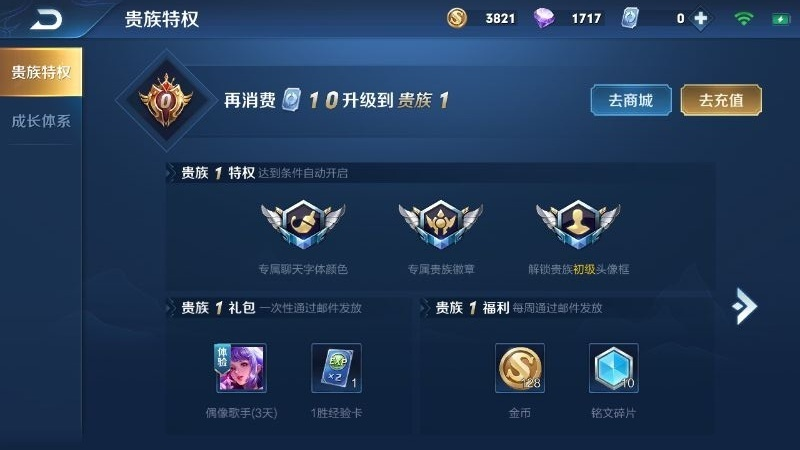return: (20, 4, 80, 34)
tag: (1, 100, 77, 139), (588, 83, 673, 114), (682, 83, 760, 116), (584, 343, 636, 392), (496, 344, 541, 391), (727, 282, 760, 326)
